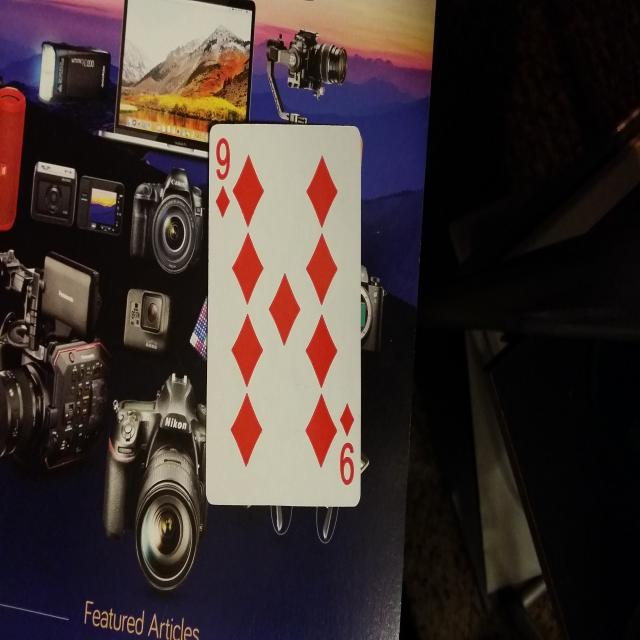9d: (333, 396, 361, 502), (210, 125, 237, 229)
